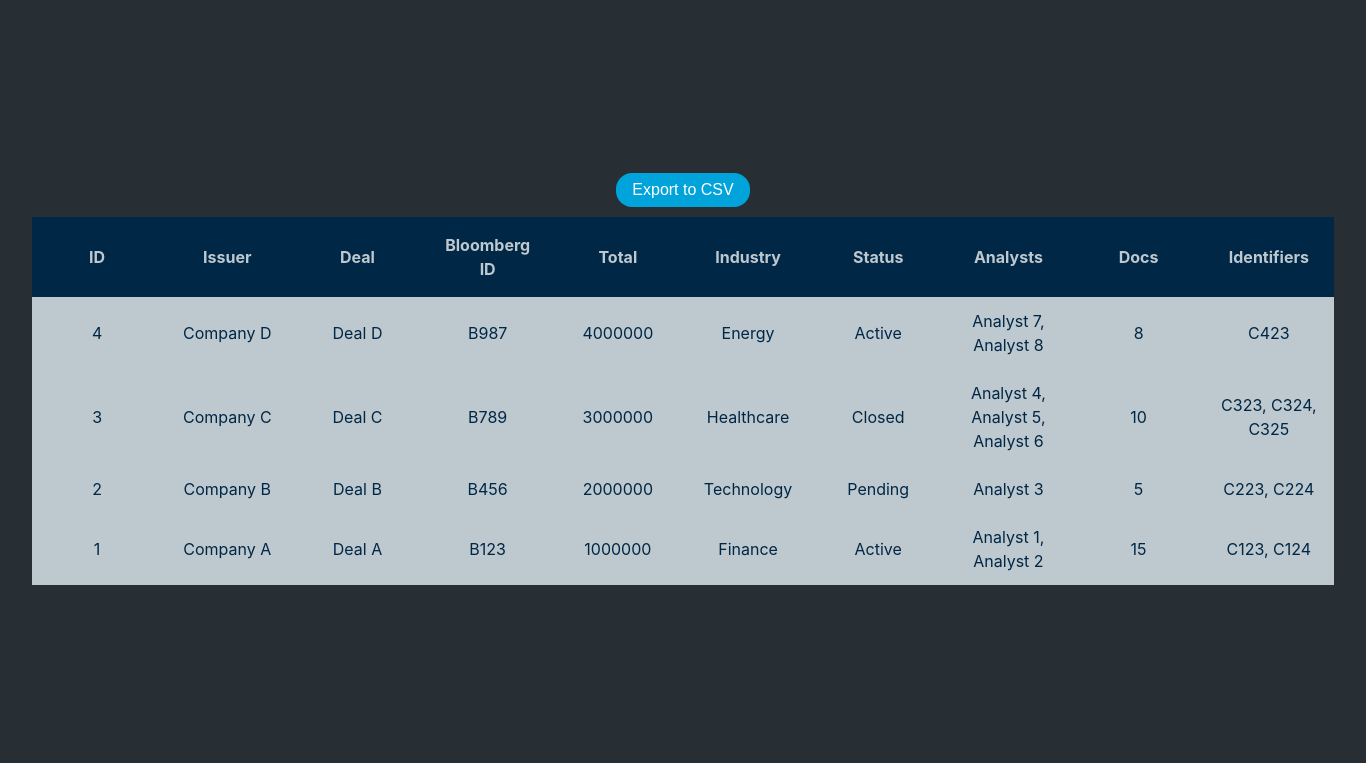
Test case: DynamicGrid.vue › toggles row selection and shows TaskPane with correct data
Click the row that starts with "Company D". click: (227, 333)
box: [32, 297, 1334, 369]
(page scrolled)
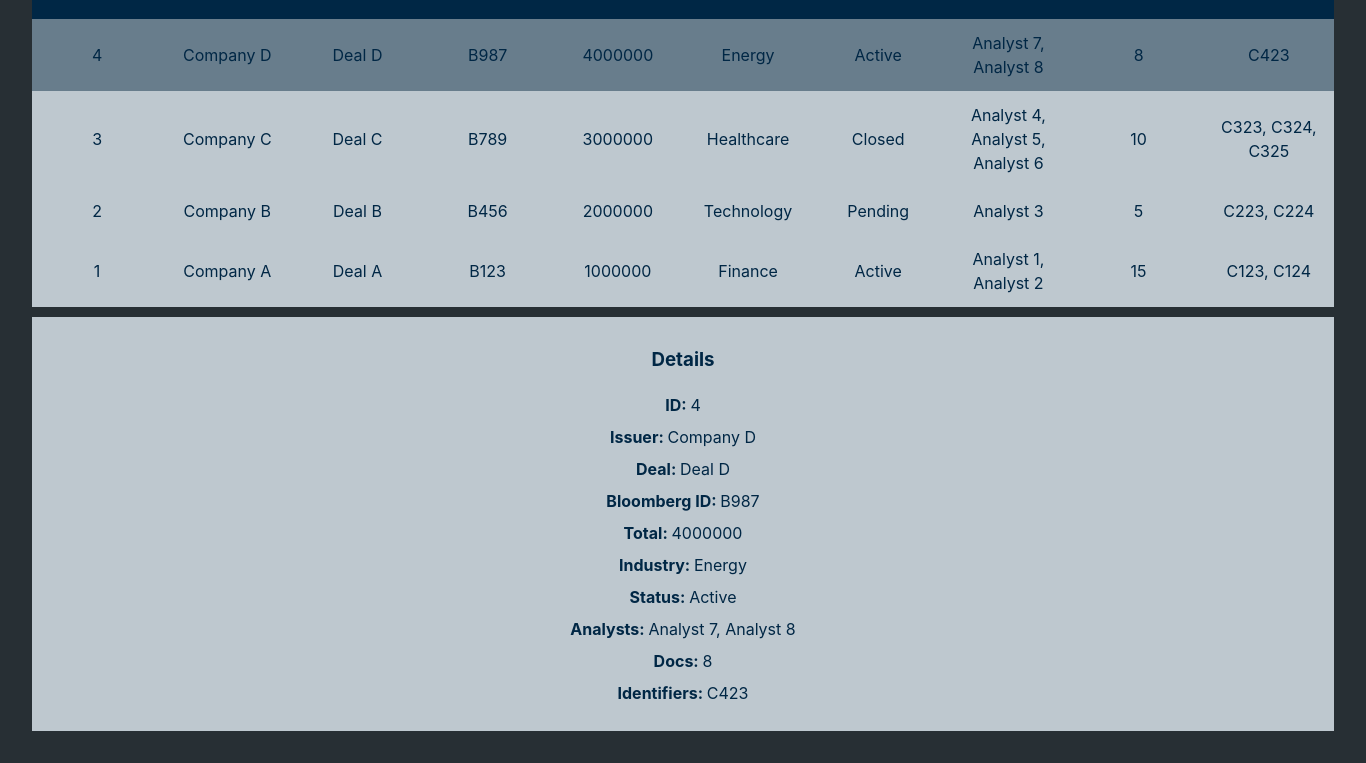
Expected: the element that starts with "Details" is shown, [32, 317, 1334, 730]
